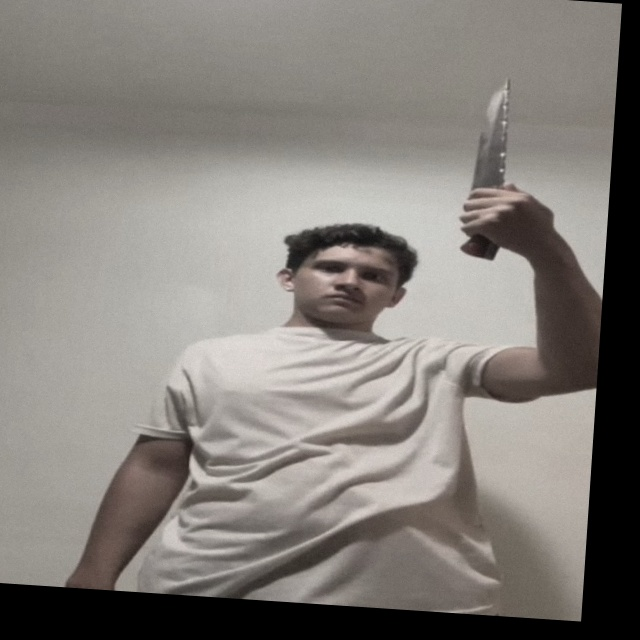Sharp-Object: (468, 78, 516, 192)
